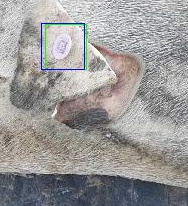text: (45, 24, 86, 69)
